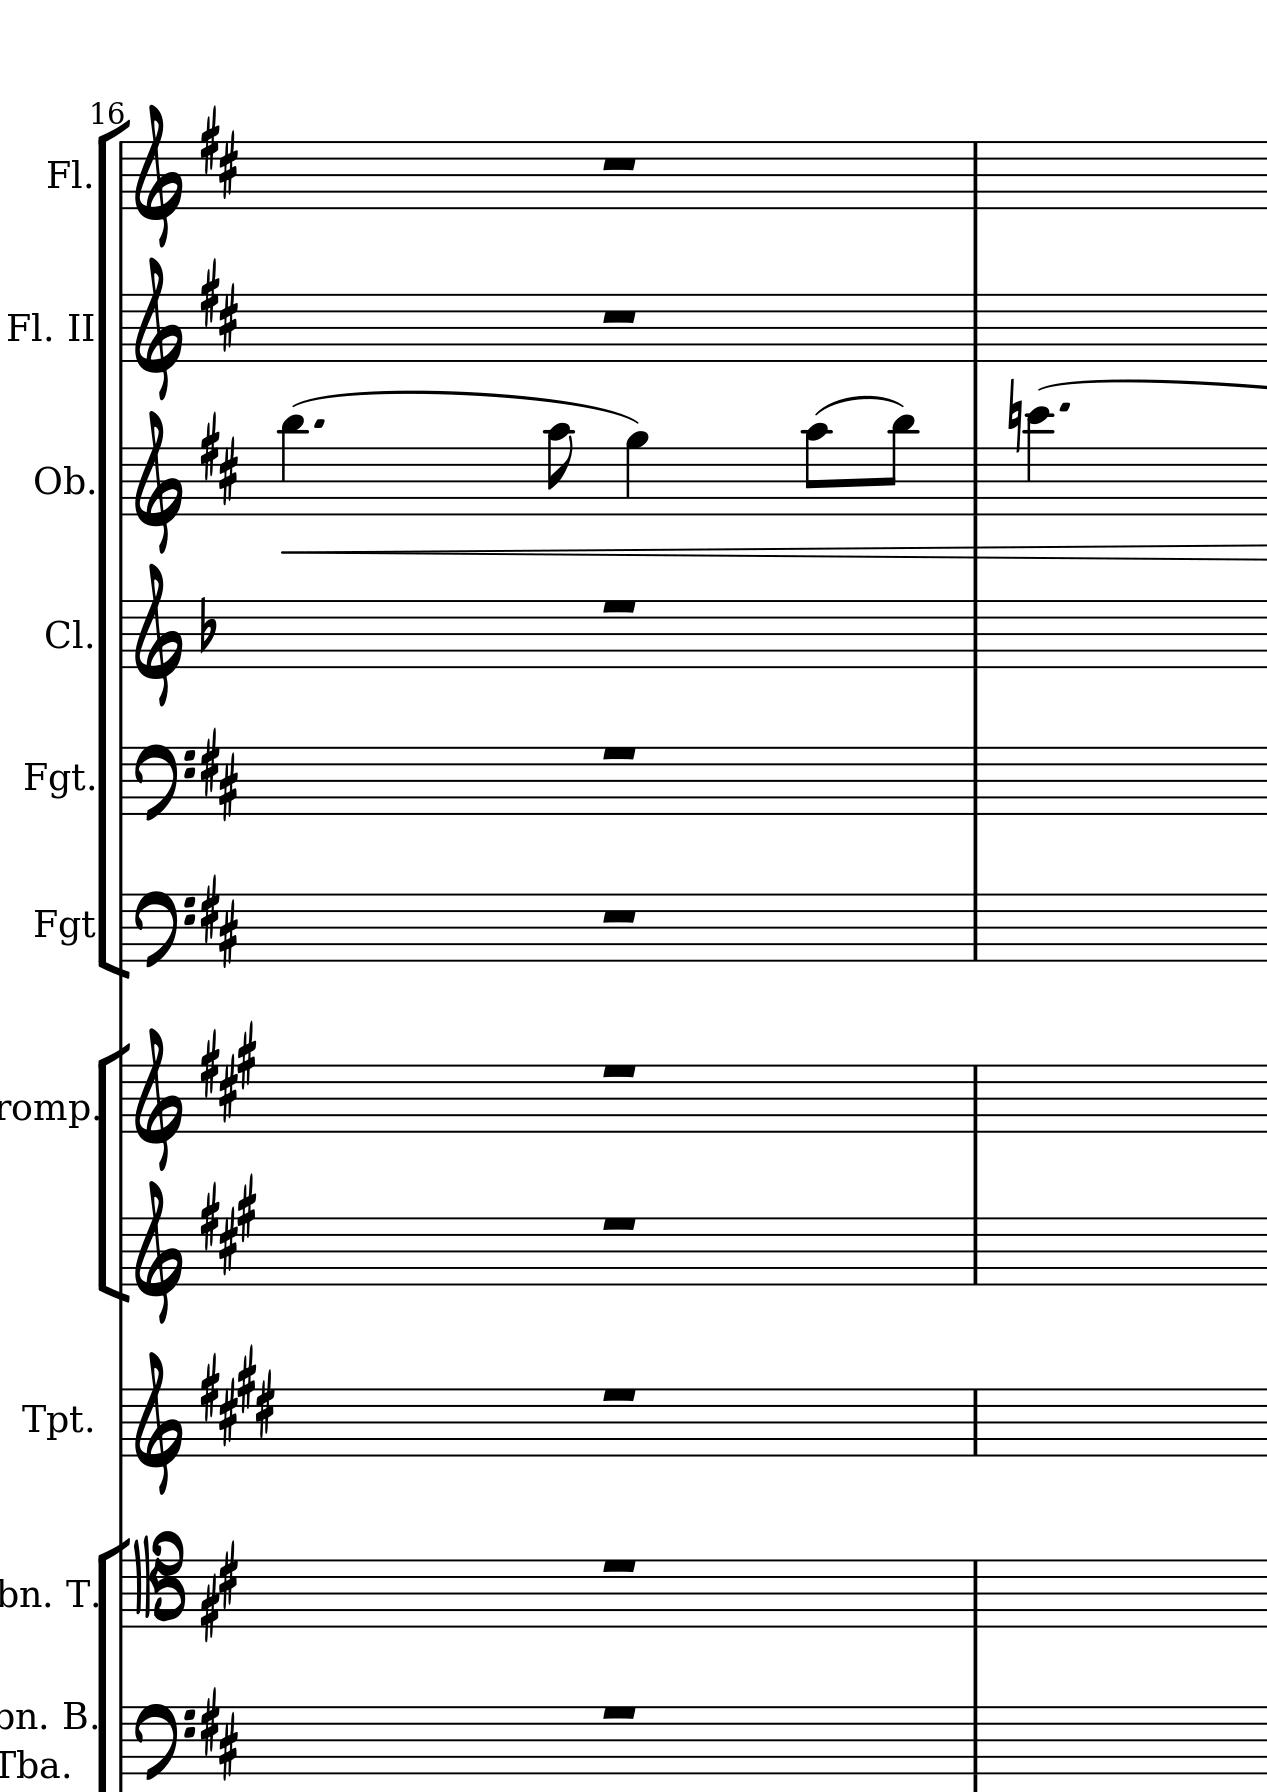1: (89, 97, 103, 128)
4_11: (278, 413, 304, 518)
4_12: (1024, 404, 1054, 516)
4_9: (623, 431, 649, 518)
6: (106, 97, 125, 128)
8_10: (544, 421, 576, 517), (802, 421, 831, 517)
8_11: (878, 413, 916, 520)
A_S: (197, 1019, 262, 1119), (202, 1176, 261, 1275)
Brace: (96, 1043, 130, 1307)
Bracke: (95, 115, 132, 980)
Cl: (43, 616, 85, 653)
D_S: (197, 1537, 241, 1640), (197, 101, 240, 202), (197, 1685, 241, 1781), (197, 255, 239, 352), (197, 410, 239, 505), (197, 873, 239, 967), (200, 729, 239, 819)
E_S: (196, 1341, 276, 1442)
Fclef: (134, 1702, 195, 1787), (133, 888, 193, 971), (133, 742, 193, 823)
Fl: (43, 156, 84, 193), (4, 308, 41, 344)
Flat: (196, 594, 218, 655)
Gclef: (130, 1179, 184, 1326), (132, 1351, 185, 1496), (132, 409, 184, 553), (132, 564, 184, 707), (132, 101, 182, 248), (132, 1026, 182, 1171), (132, 256, 182, 400)
Natural: (1005, 378, 1022, 455)
Ob: (33, 459, 86, 500)
Rests1: (596, 904, 640, 927), (596, 1058, 640, 1082), (596, 1212, 640, 1235), (596, 1553, 640, 1577), (596, 1702, 640, 1725), (596, 1383, 640, 1405), (596, 306, 640, 326), (596, 596, 640, 617), (596, 743, 640, 764), (598, 154, 640, 174)
Single_barline: (963, 1707, 986, 1774), (963, 601, 986, 666), (963, 749, 986, 814), (963, 1390, 986, 1456), (963, 1562, 986, 1627), (963, 1065, 985, 1133), (963, 143, 985, 208), (963, 895, 985, 961), (964, 293, 985, 361), (964, 1219, 985, 1286), (965, 448, 985, 514), (112, 895, 129, 964), (112, 448, 129, 516), (112, 749, 129, 813), (114, 1708, 130, 1773), (114, 295, 129, 363), (114, 1562, 129, 1629), (112, 143, 128, 208), (112, 602, 128, 668), (114, 1065, 128, 1134), (114, 1219, 128, 1287), (114, 1390, 128, 1456)
Slur: (293, 389, 638, 426), (814, 393, 906, 415)
Tensor_Cclef: (130, 1530, 185, 1632)
Tpt: (18, 1397, 84, 1440)
dot: (1057, 400, 1072, 417), (311, 415, 326, 432)
